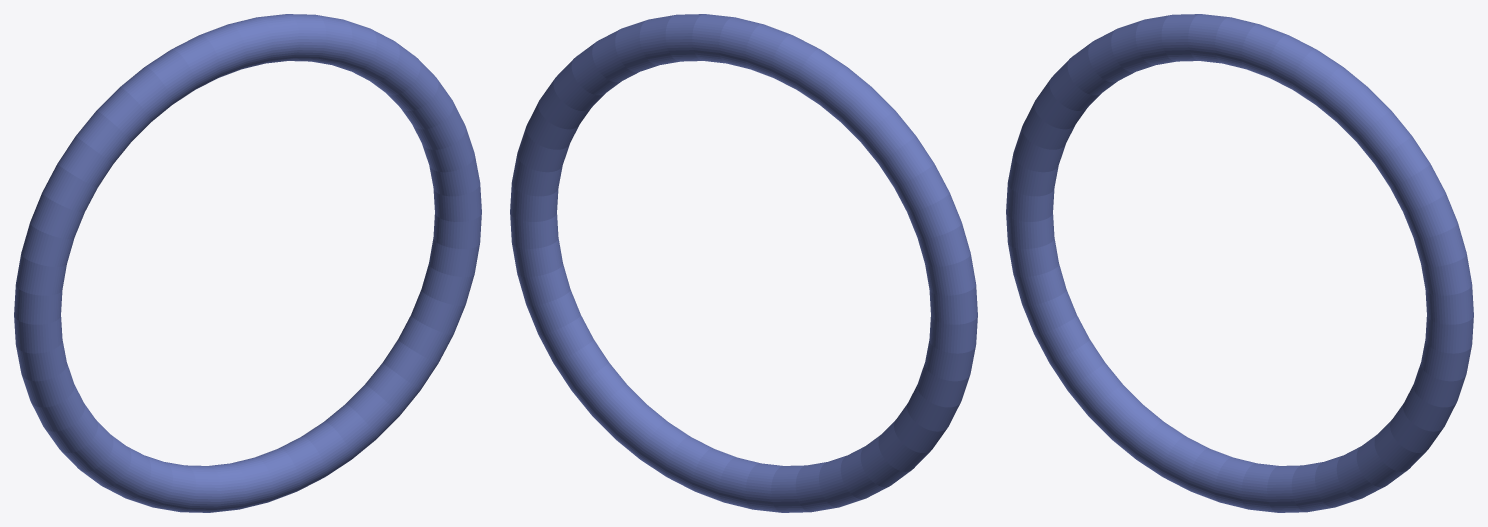
The picture shows the model from 3 angles, left to right: view 1: azimuth 30°, elevation 25°; view 2: azimuth 150°, elevation 25°; view 3: azimuth 330°, elevation 25°; orthographic projection.
Visible parts, largest first — view 1: world; view 2: world; view 3: world.
Boxes of the visible parts, x1,y1,x2,y2 form: world: [14, 14, 481, 512]; world: [510, 14, 977, 512]; world: [1006, 14, 1473, 512].
Size of the model in its own units: 22.67 by 22.62 by 2.
